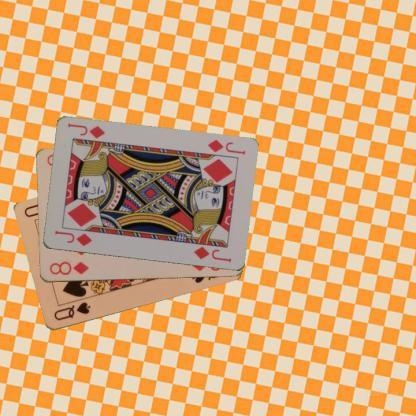8d: (46, 259, 90, 277)
Jd: (52, 228, 93, 248), (204, 137, 247, 156)
Qs: (51, 300, 92, 322)
